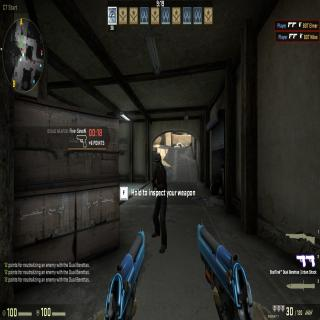T-Body: (152, 152, 168, 253)
T-Head: (155, 152, 163, 171)
